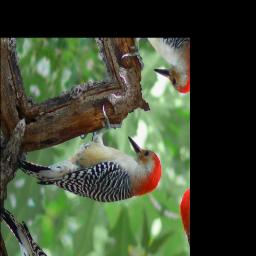Woodpecker: (14, 66, 172, 256)
